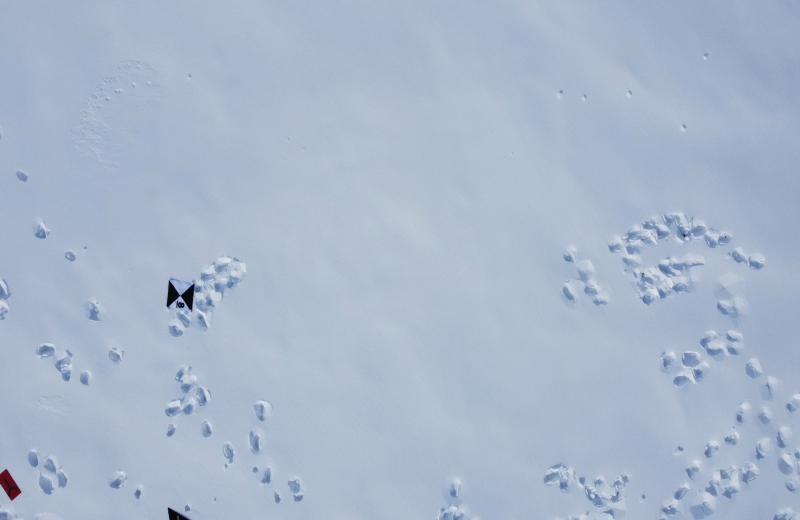Rectangle: (0, 466, 26, 502)
